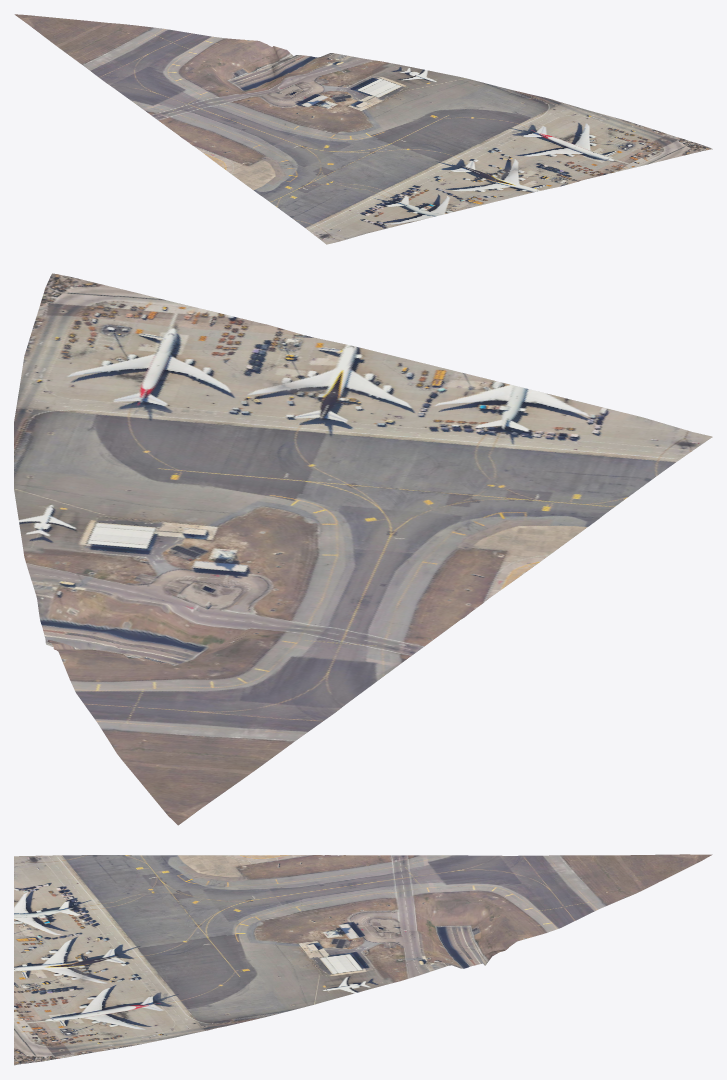
File: terrain_09.glb
3 views of the same model, one above another, from view 1: azimuth 30°, elevation 25°; view 2: azimuth 150°, elevation 25°; view 3: azimuth 270°, elevation 25° (orthographic). The views are drawn at different scales.
Visible parts, largest first — view 1: T10500180000106E11.001; view 2: T10500180000106E11.001; view 3: T10500180000106E11.001.
Boxes of the visible parts, bbox=[...] form: T10500180000106E11.001: bbox=[14, 14, 712, 244]; T10500180000106E11.001: bbox=[14, 273, 712, 825]; T10500180000106E11.001: bbox=[14, 854, 712, 1065].
Bounding box in the file's own units: 315 × 10.74 × 442.
Materials: 1 (1 with a texture image).
